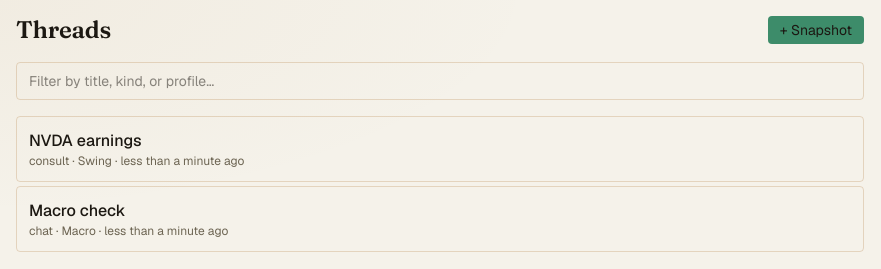
Test: ThreadsPage › filters the loaded page by the Filter input
The image size is (881, 269).
Expected: the list item with test id "thread-row-1" is shown, [16,116,864,182]
In the search field labelled "Filter": x=440, y=81 [16,62,864,100], type "macro"
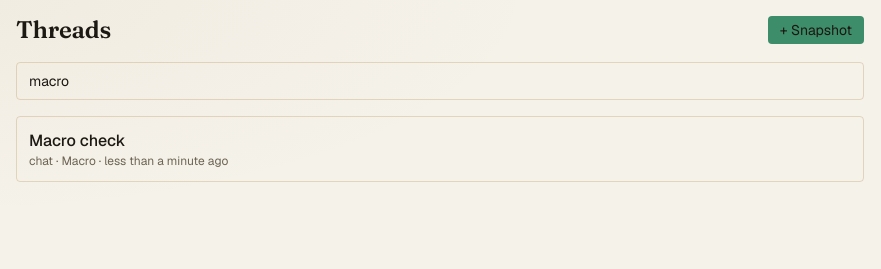
Expected: the list item with test id "thread-row-2" is shown, [16,116,864,182]
Result: the list item with test id "thread-row-1" is gone
